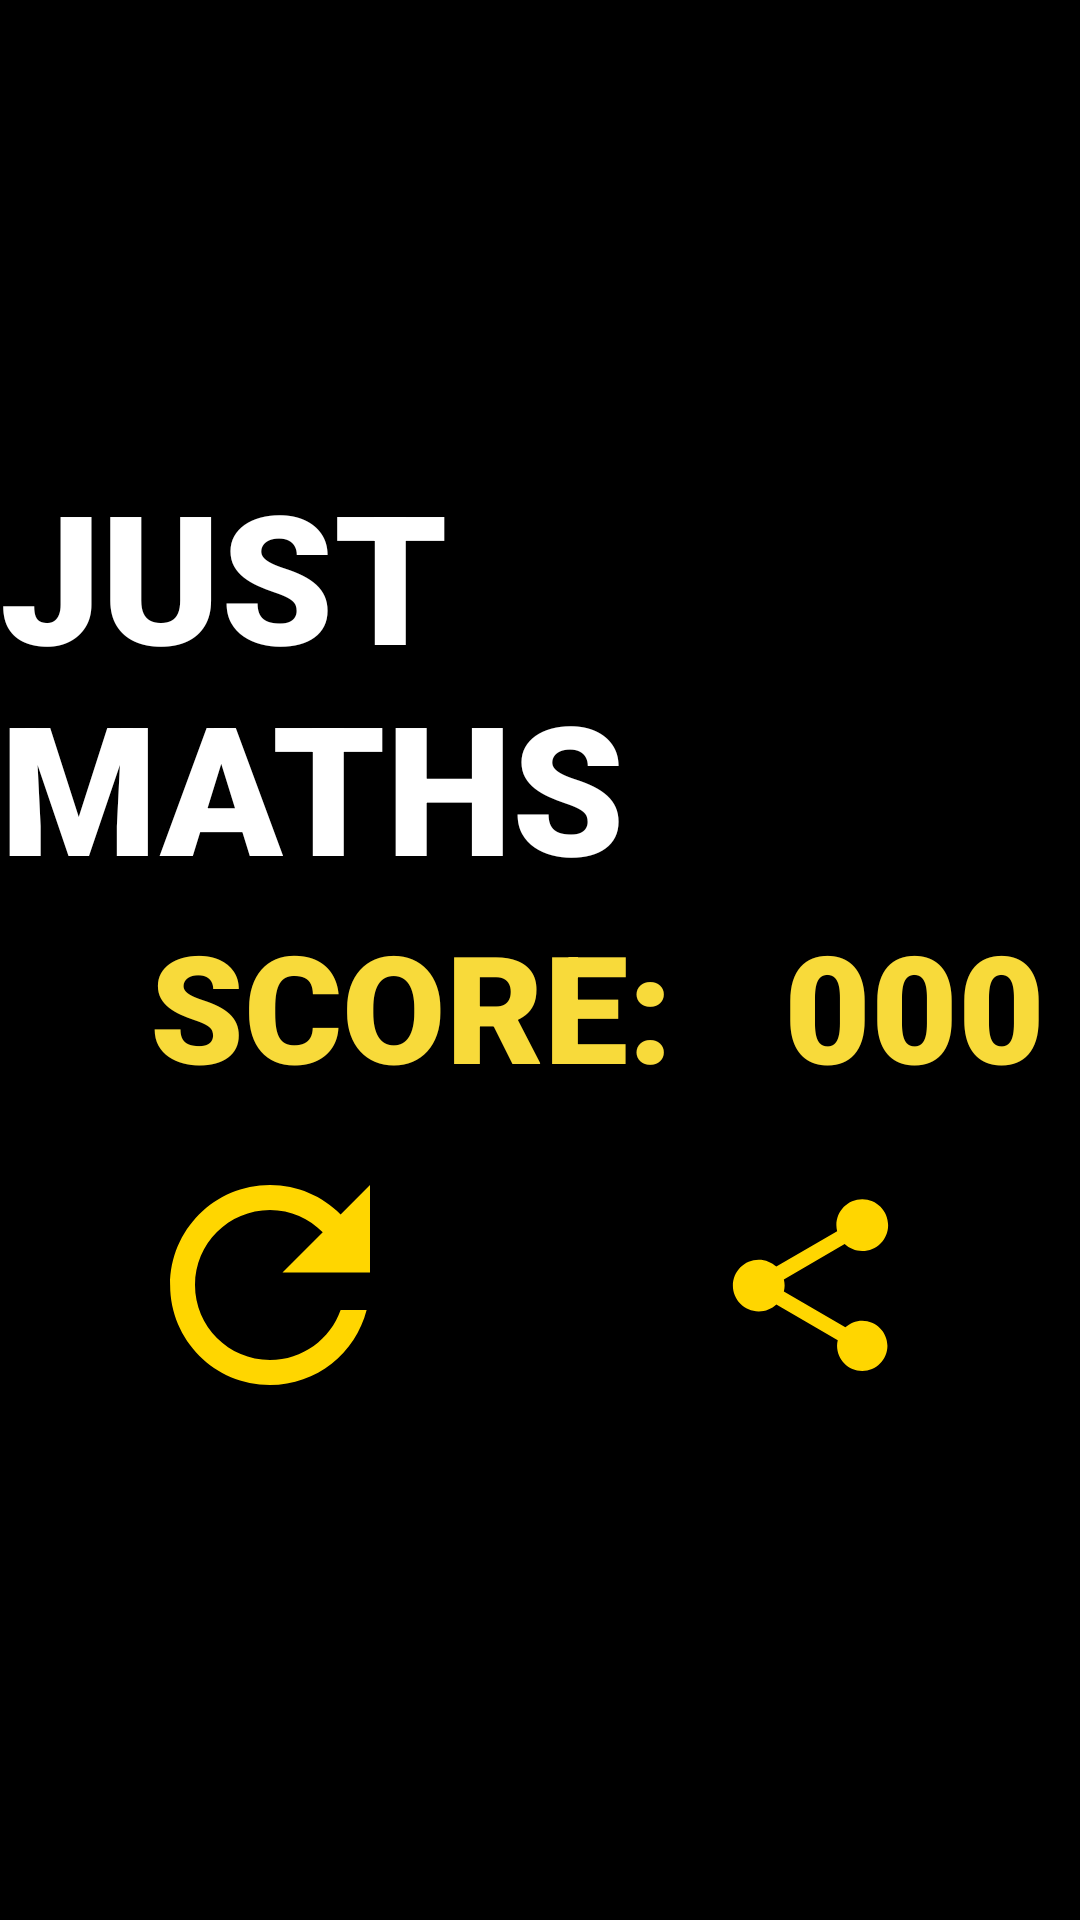

Locate icon controls on the screen. Image size 1080 × 1920, boxes as bbox=[x1, y1, x2, y2].
refresh: bbox=[170, 1185, 370, 1385]
share: bbox=[732, 1199, 889, 1371]
